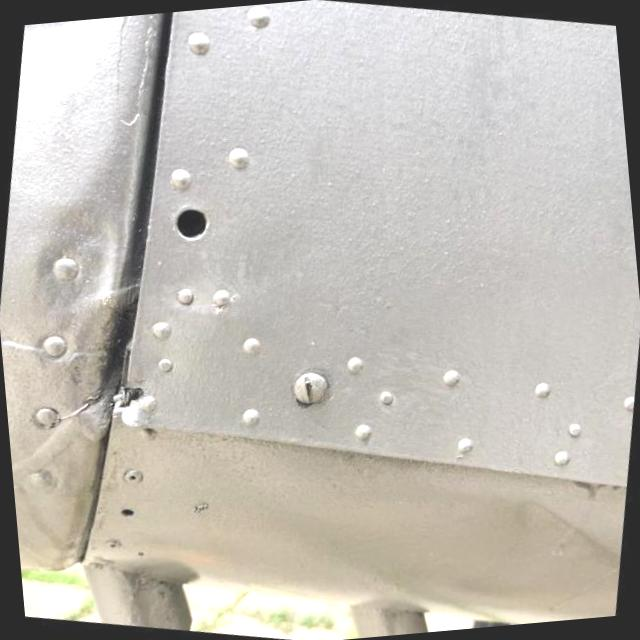Missing Fastener: (177, 206, 210, 239), (115, 496, 136, 526)
